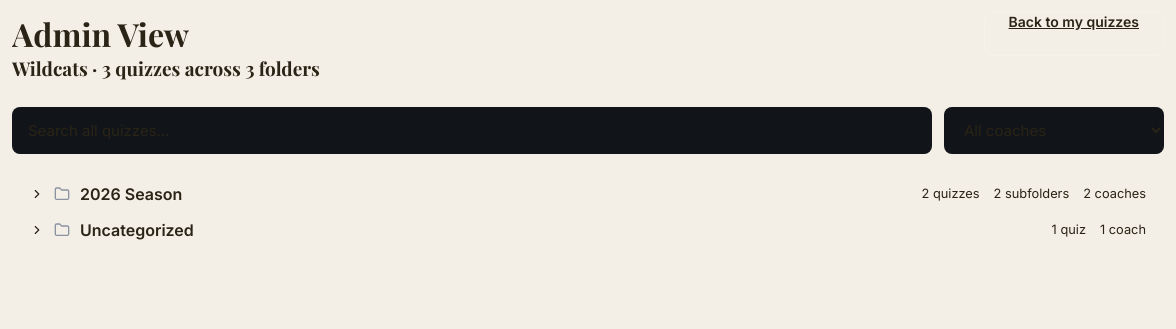
Test: AdminQuizzesPage › collapses again
This screenshot has width=1176, height=329.
Click the text "2026 Season" at (131, 194), box [80,184,182,204]
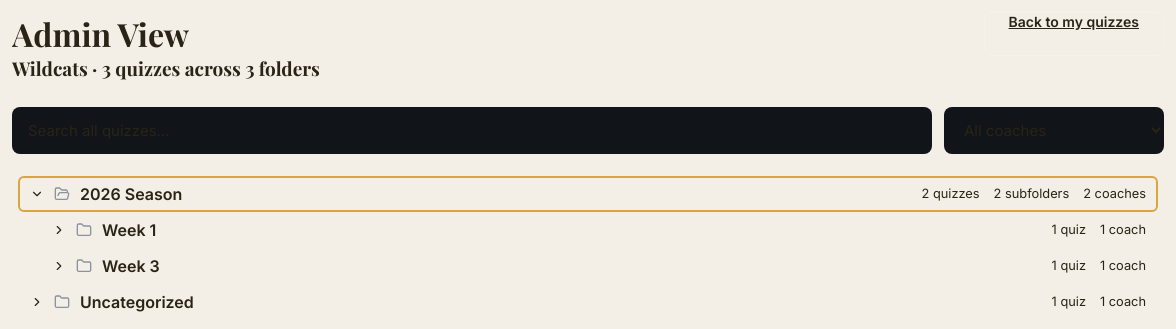
Expected: the text "Week 3" is shown, [102,256,160,276]
Click the text "2026 Season" at (131, 194), box [80,184,182,204]
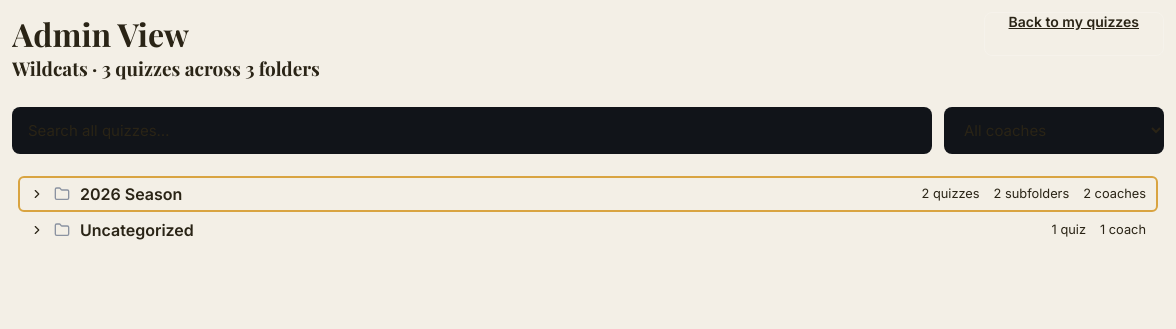
Expected: the button "Week 3" is gone
